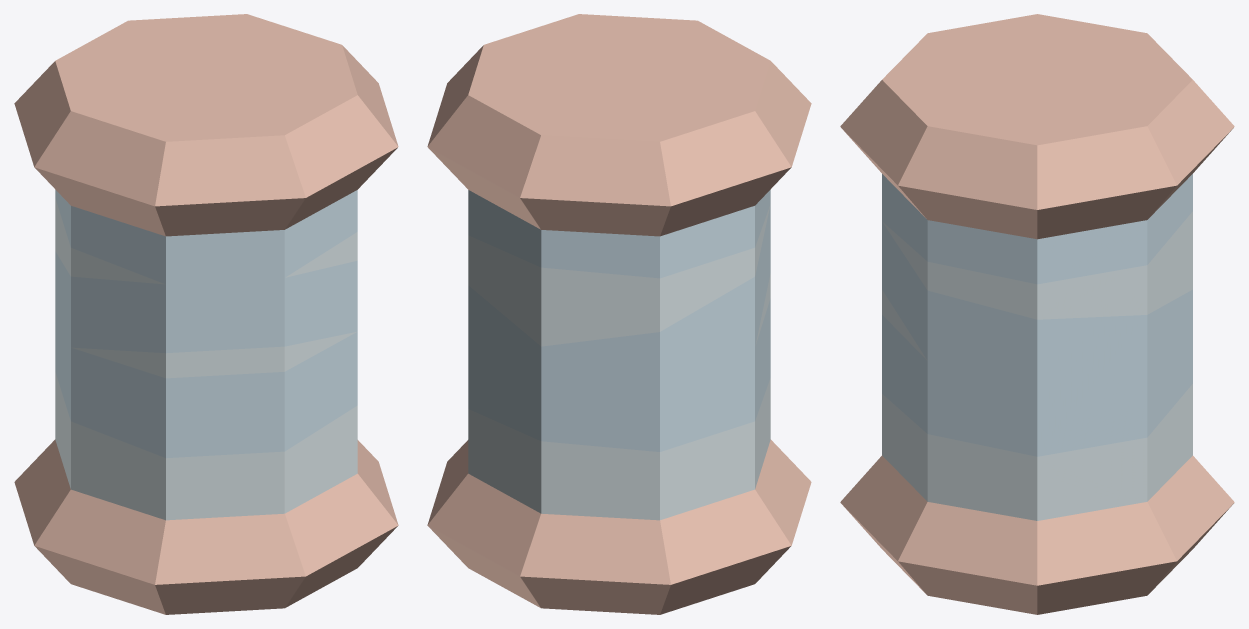
Rendered from Thread.fbx.
The picture shows the model from 3 angles, left to right: view 1: azimuth 30°, elevation 25°; view 2: azimuth 150°, elevation 25°; view 3: azimuth 270°, elevation 25°; orthographic projection.
Visible parts, largest first — view 1: Thread; view 2: Thread; view 3: Thread.
Boxes of the visible parts, box(x1,y1,x2,y2) form: Thread: box(14, 14, 398, 614); Thread: box(427, 14, 811, 614); Thread: box(840, 14, 1234, 614).
Bounding box in the file's own units: 0.0762 × 0.1 × 0.0762.
